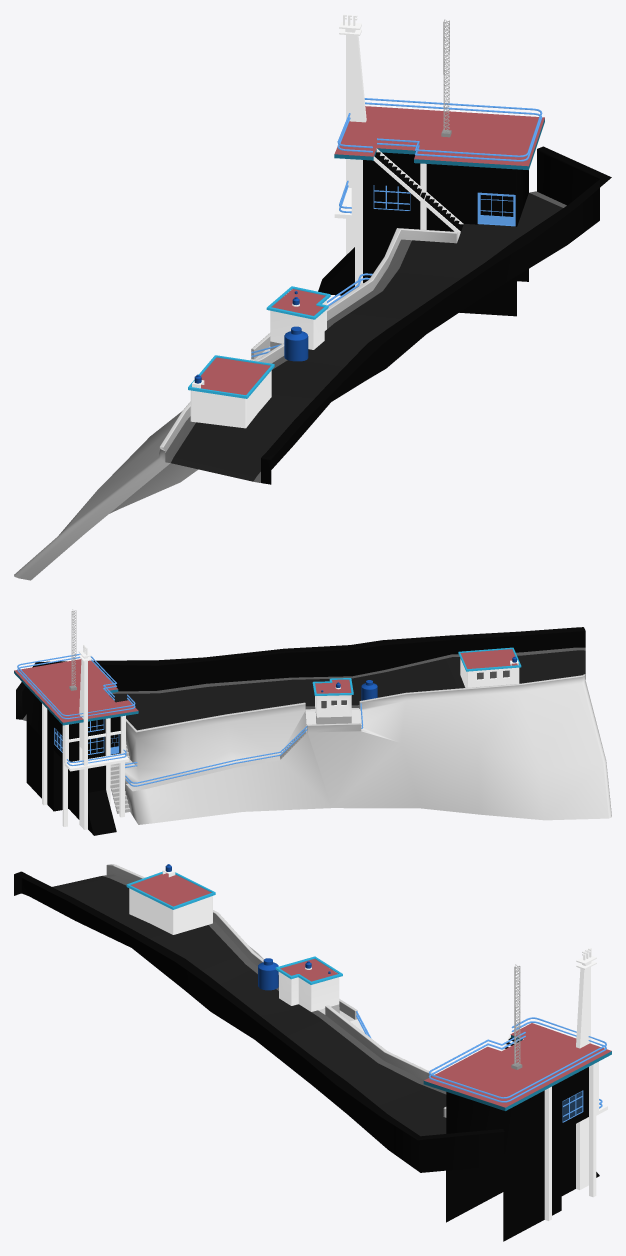
File: Msh_Sitio.glb
3 renders of one model, top to bottom at view 1: azimuth 30°, elevation 25°; view 2: azimuth 150°, elevation 25°; view 3: azimuth 270°, elevation 25°, orthographic. The views are drawn at different scales.
Parts seen in each view (by area): view 1: Msh_Sitio; view 2: Msh_Sitio; view 3: Msh_Sitio.
Boxes of the visible parts, x1,y1,x2,y2 form: Msh_Sitio: (14,14,611,580); Msh_Sitio: (14,609,611,835); Msh_Sitio: (14,864,611,1241).
Size of the model in its own units: 85.34 by 32.01 by 69.5.
